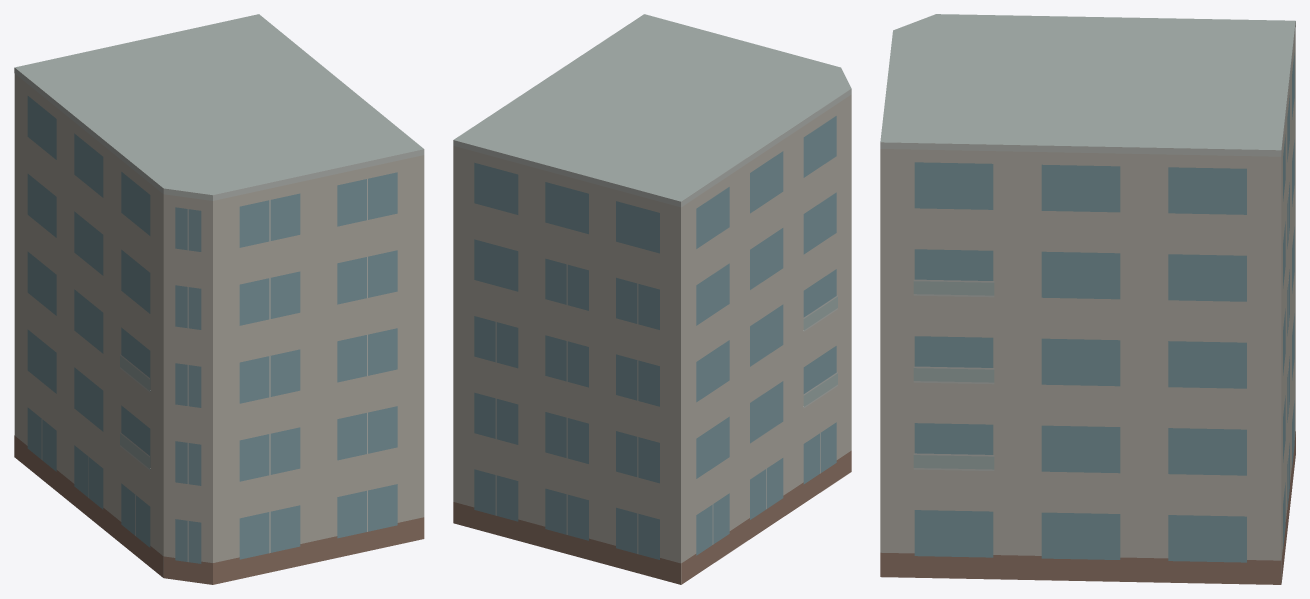
The model's file is survey-upis-32840295.glb.
The picture shows the model from 3 angles, left to right: view 1: azimuth 30°, elevation 25°; view 2: azimuth 150°, elevation 25°; view 3: azimuth 270°, elevation 25°; orthographic projection. The views are drawn at different scales.
Parts seen in each view (by area): view 1: survey-upis-32840295.tmp; view 2: survey-upis-32840295.tmp; view 3: survey-upis-32840295.tmp.
Part boxes in pixels (<box>): survey-upis-32840295.tmp: <box>14,14,424,584</box>; survey-upis-32840295.tmp: <box>453,14,851,584</box>; survey-upis-32840295.tmp: <box>880,14,1295,584</box>.
Size of the model in its own units: 10.97 by 16.3 by 14.13.
